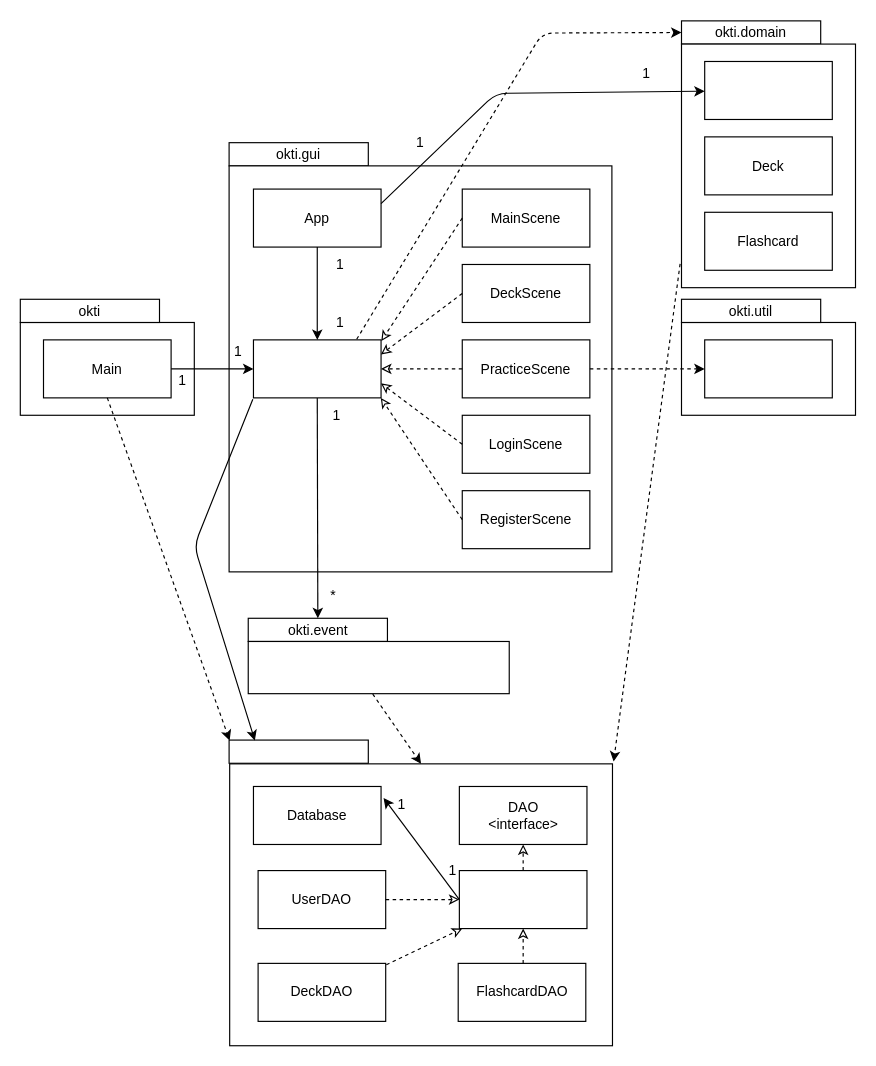
The diagram is 876 pixels wide and 1066 high, and some of its shapes have lost their labels. The centre of each missing label's shape, as x and y in pixels:
AppScene: point (316, 368)
ArrayUtil: point (768, 368)
EventHandlers: point (378, 667)
GenericDAO: point (522, 899)
okti.db: point (298, 751)
User: point (768, 89)
